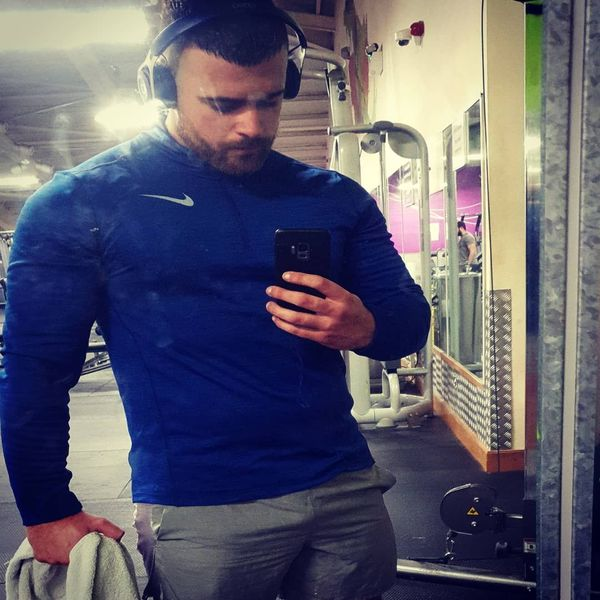nike: (139, 186, 198, 214)
